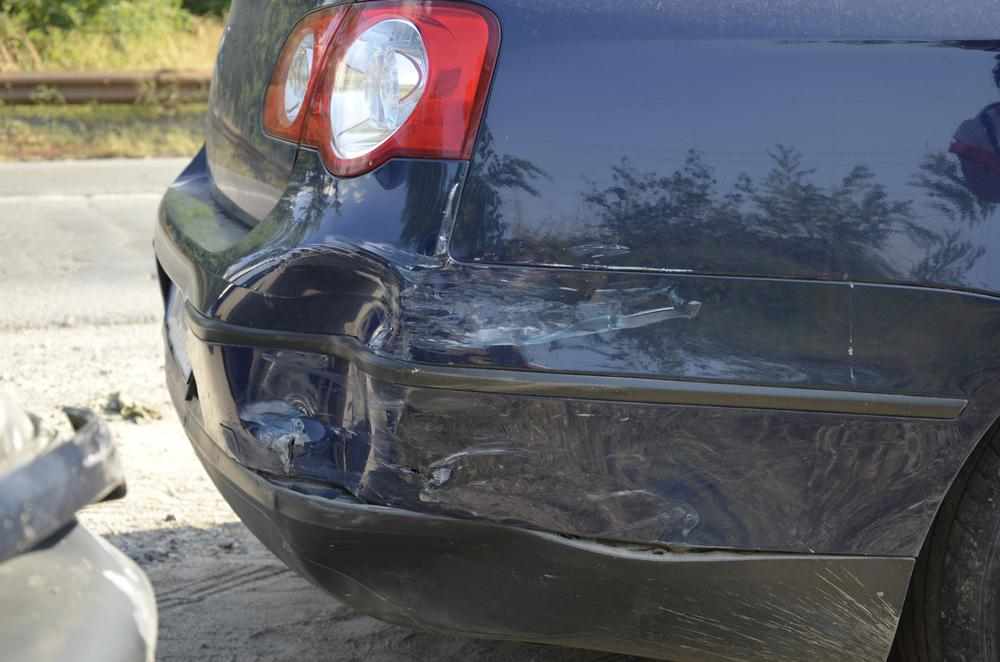dent: (206, 247, 401, 492), (302, 528, 557, 631), (425, 464, 678, 535)
scratch: (393, 259, 710, 356)
